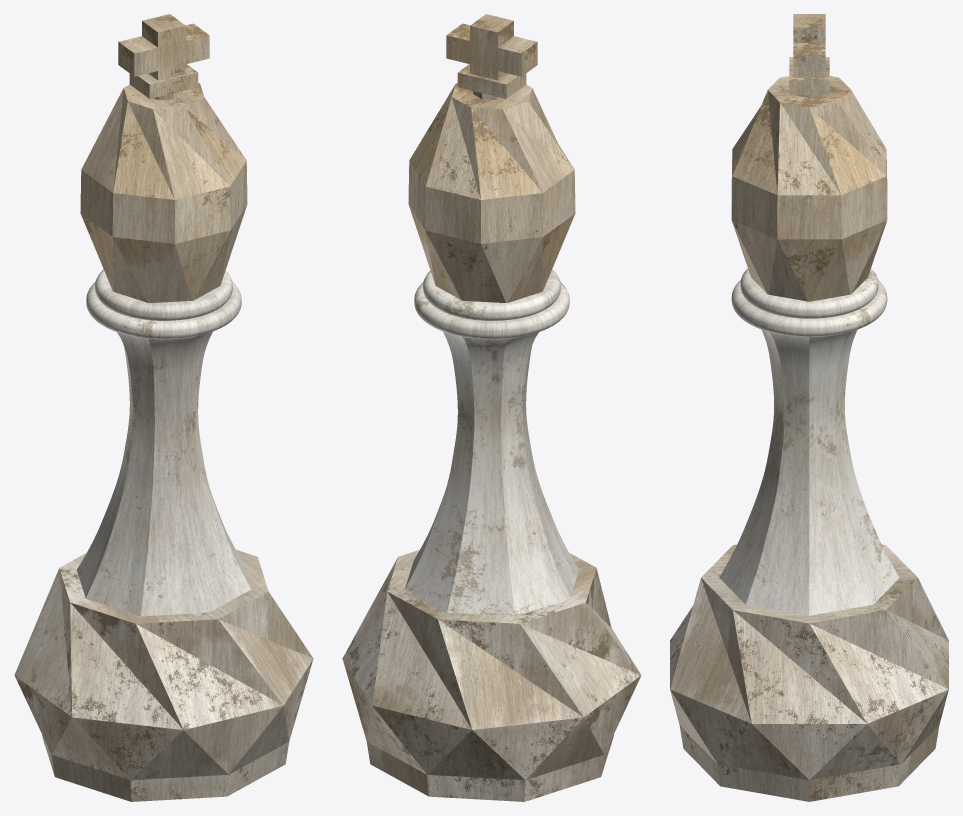
File: king-white.glb
3 views of the same model, side by side, from view 1: azimuth 30°, elevation 25°; view 2: azimuth 150°, elevation 25°; view 3: azimuth 270°, elevation 25° (orthographic).
Parts seen in each view (by area): view 1: Lithoxyl_King_Ivory; view 2: Lithoxyl_King_Ivory; view 3: Lithoxyl_King_Ivory.
Boxes of the visible parts, left/top/right/bottom form: Lithoxyl_King_Ivory: left=14, top=14, right=313, bottom=801; Lithoxyl_King_Ivory: left=342, top=14, right=641, bottom=801; Lithoxyl_King_Ivory: left=670, top=14, right=948, bottom=801.
Size of the model in its own units: 0.5731 by 1.65 by 0.5731.
3 materials, 3 textured.
